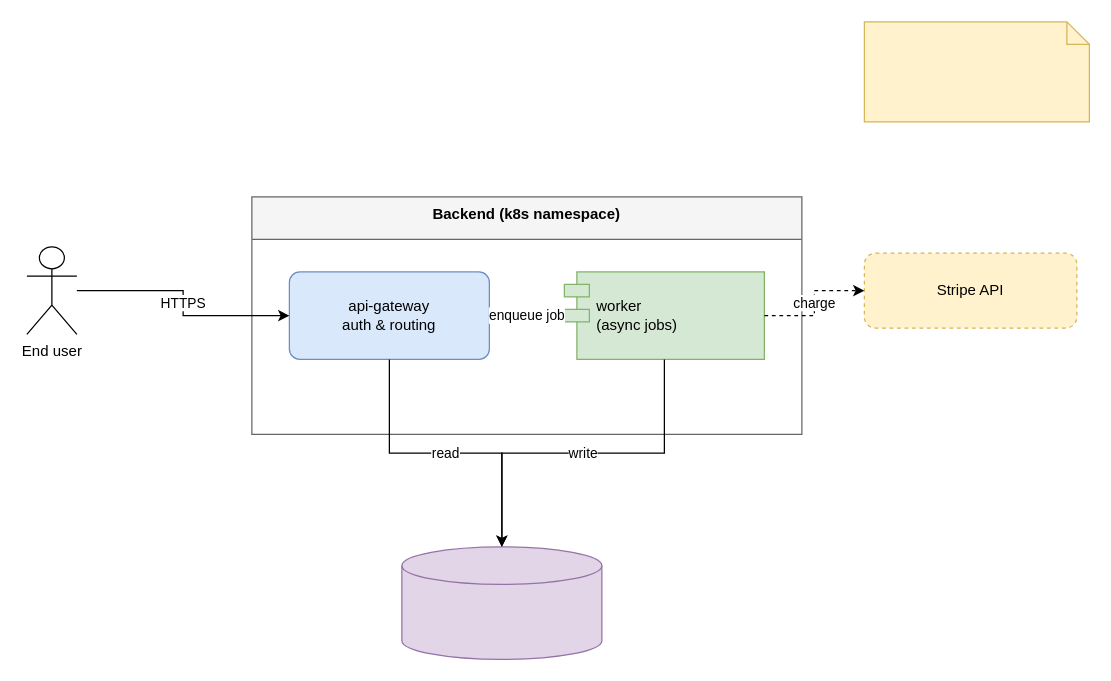
The diagram is 1111 pixels wide and 681 high, and some of its shapes have lost their labels. Each missing label, with the centre of its shape:
Dashed border = external system we do not run: (976,71)
PostgreSQL: (501,602)
